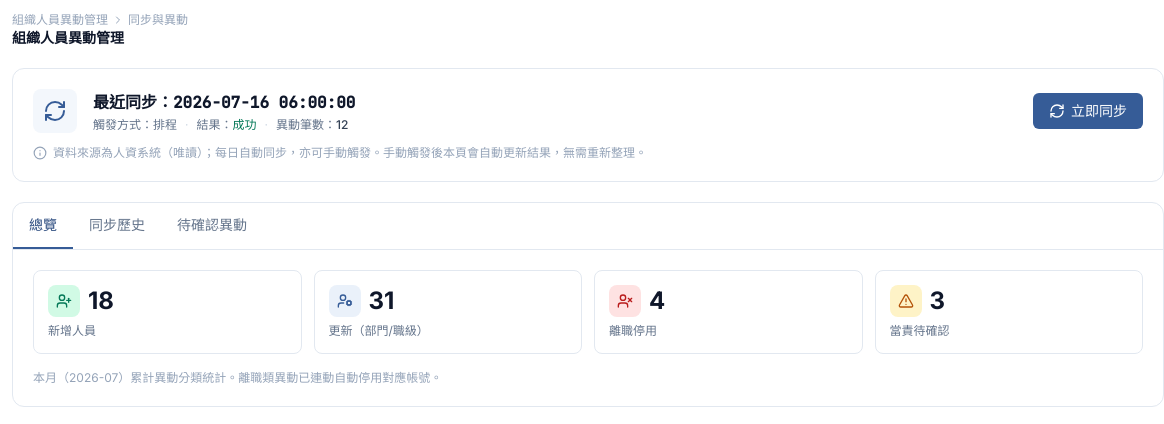
it: OrgSyncPage — 同步狀態/歷史（US-011 回歸，移入頁籤後） › TS-F006-062 切至「同步歷史」頁籤 → 顯示既有歷史表（結果/異動筆數），其他頁籤內容隱藏
Click the button "同步歷史" at (117, 226), box [73,203,161,249]
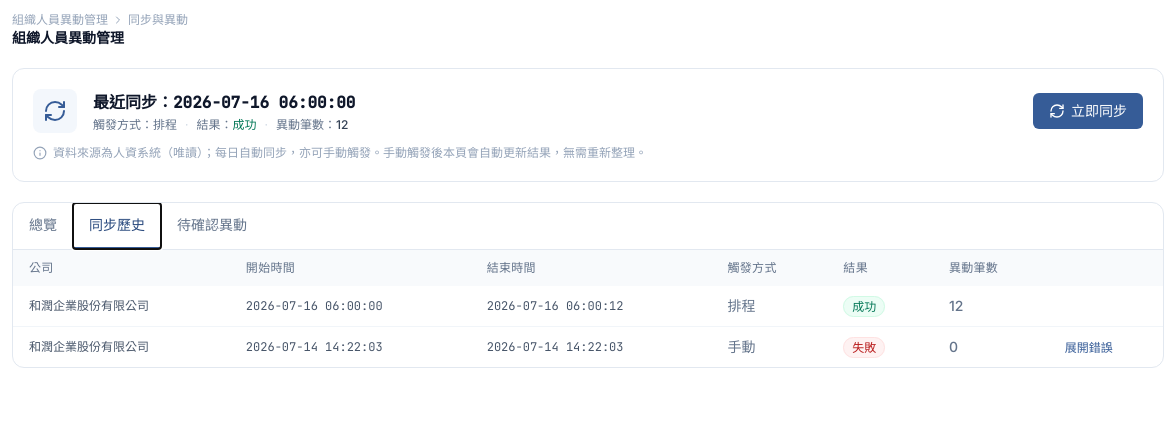
Expected: the text "成功" in the row of "2026-07-16 06:00:12" is shown, [852,299,876,314]
Expected: the text "失敗" is shown, [843,337,885,358]
Expected: the text "12" is shown, [933,286,1049,326]
